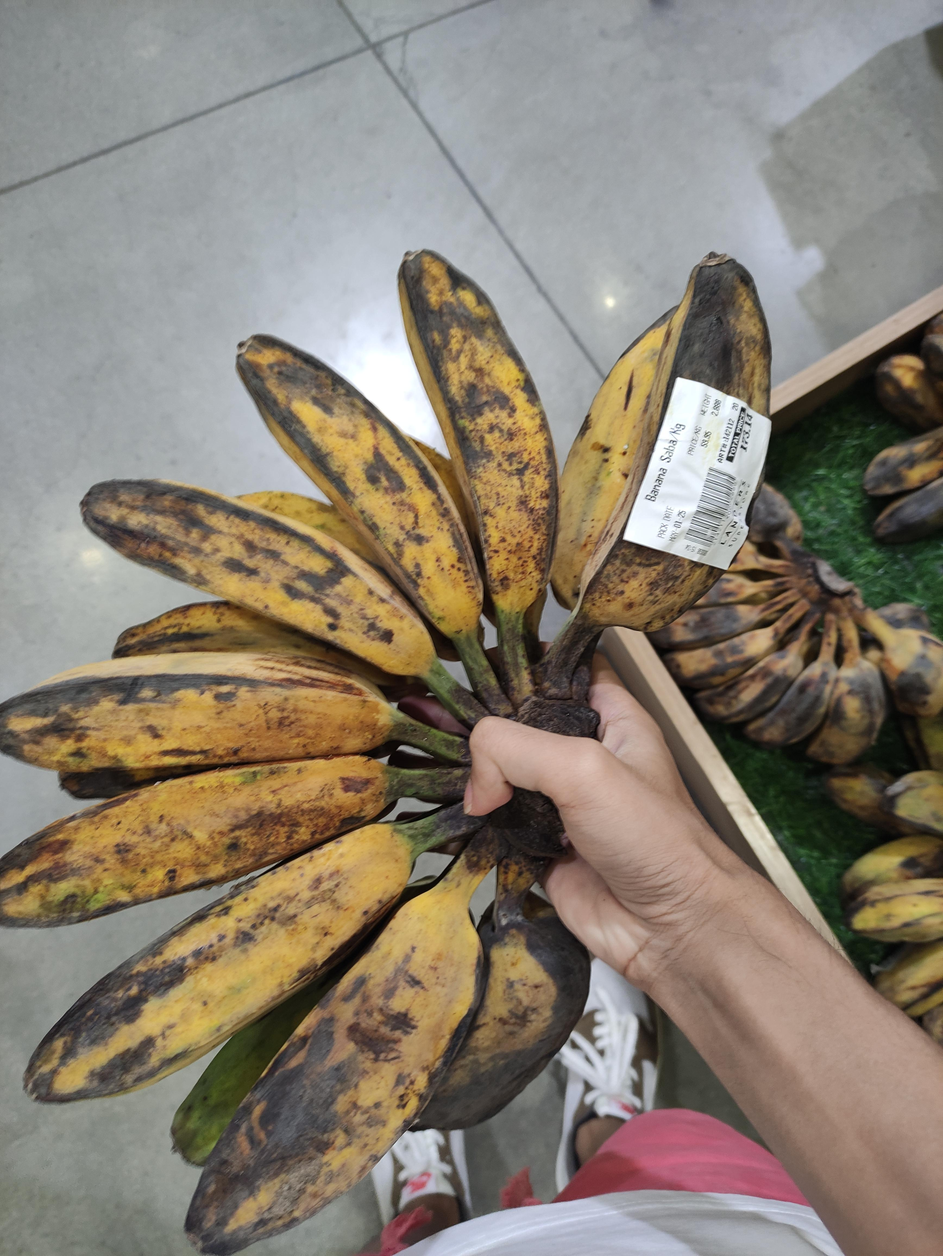ripe: (0, 250, 768, 1255)
